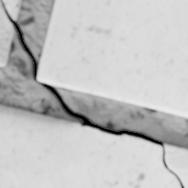brick: (38, 0, 187, 117)
broken_brick: (0, 105, 179, 187), (164, 143, 187, 187), (0, 1, 14, 66), (4, 0, 21, 20)
crack: (0, 0, 185, 187)
